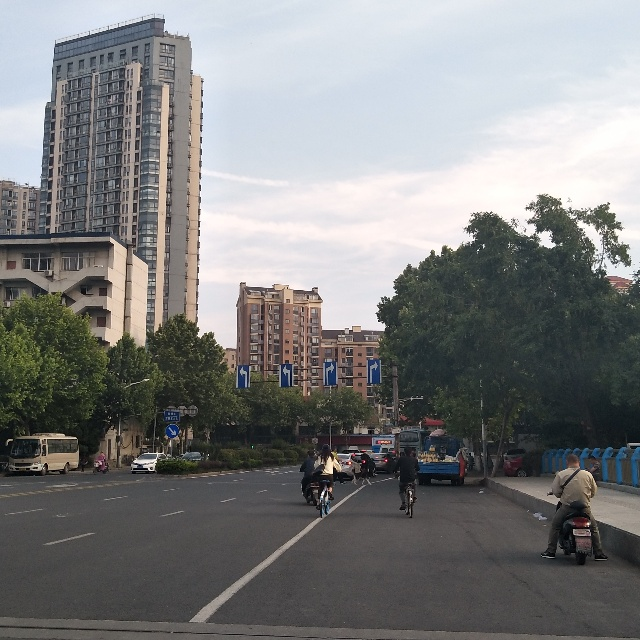left: (278, 360, 298, 387), (233, 364, 253, 390)
right: (367, 354, 387, 386), (321, 360, 339, 390)
